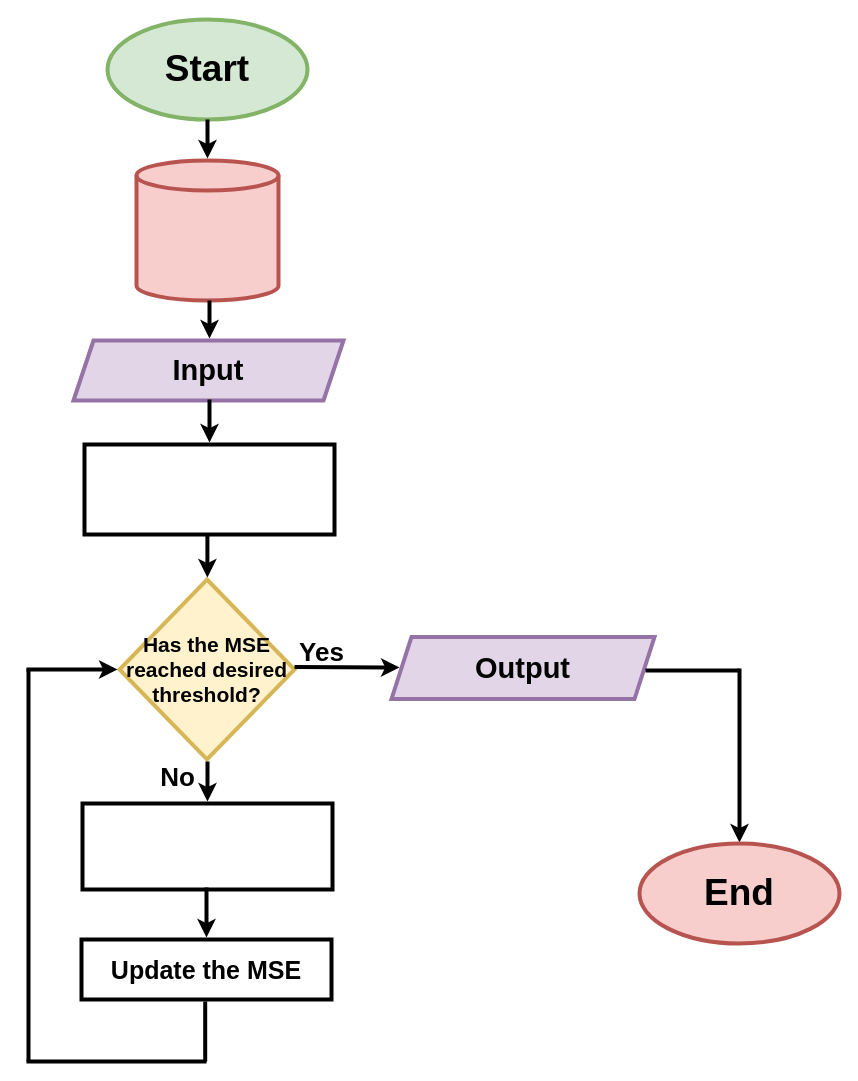
Image size: 858x1081. Some labels were removed from this diagram. Here are the shapes that lost their labels. From the top down, the centre of each, then its label:
point (207, 230): irisdata database
point (209, 489): Initialize MSE with the starting W-matrix
point (207, 846): Compute the gradient and update W
